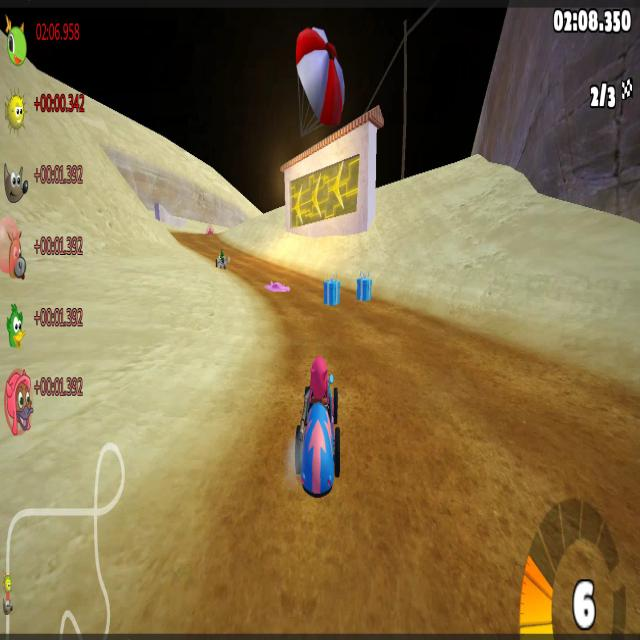track: (178, 472, 516, 632), (341, 325, 479, 468), (551, 379, 637, 479), (482, 332, 535, 449), (249, 348, 286, 462), (537, 382, 552, 499), (274, 310, 322, 342), (234, 252, 254, 287), (175, 231, 205, 253), (300, 277, 320, 304), (205, 228, 222, 245)
